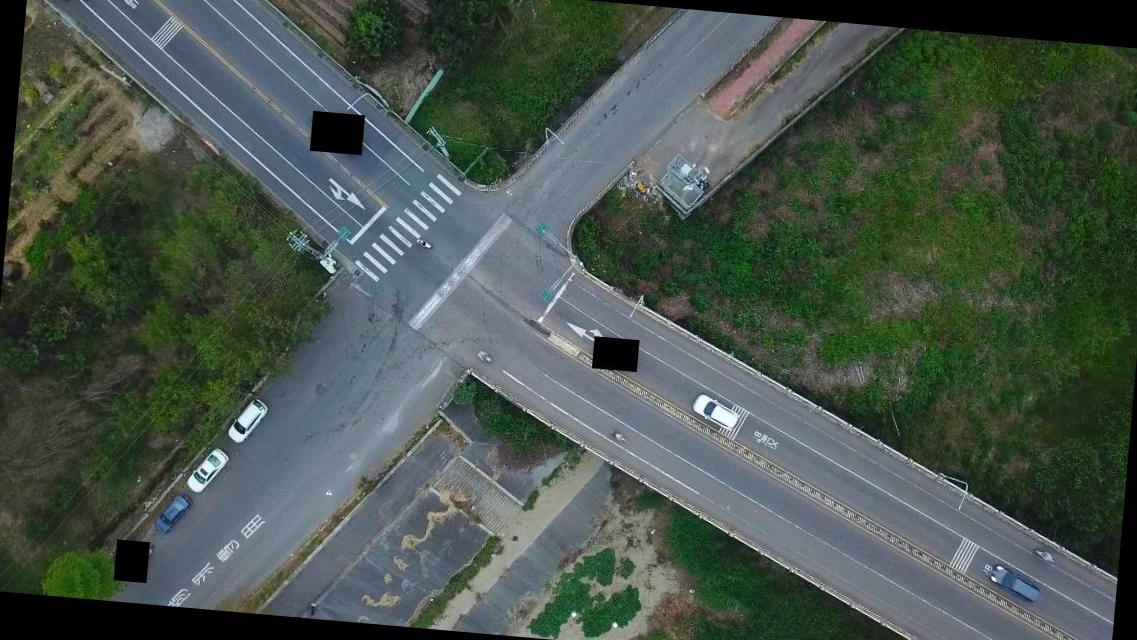vehicle: (984, 562, 1042, 603), (224, 394, 265, 446), (186, 446, 229, 494), (689, 394, 742, 431), (152, 491, 193, 534)
